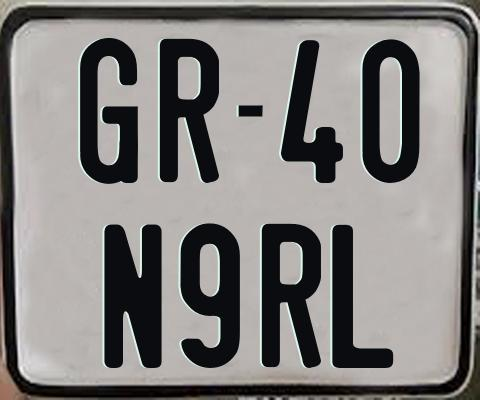0: (360, 36, 419, 185)
4: (281, 38, 343, 187)
9: (178, 221, 244, 368)
G: (80, 35, 143, 187)
L: (331, 223, 392, 370)
N: (101, 221, 165, 366)
R: (260, 223, 322, 368), (157, 37, 216, 184)
